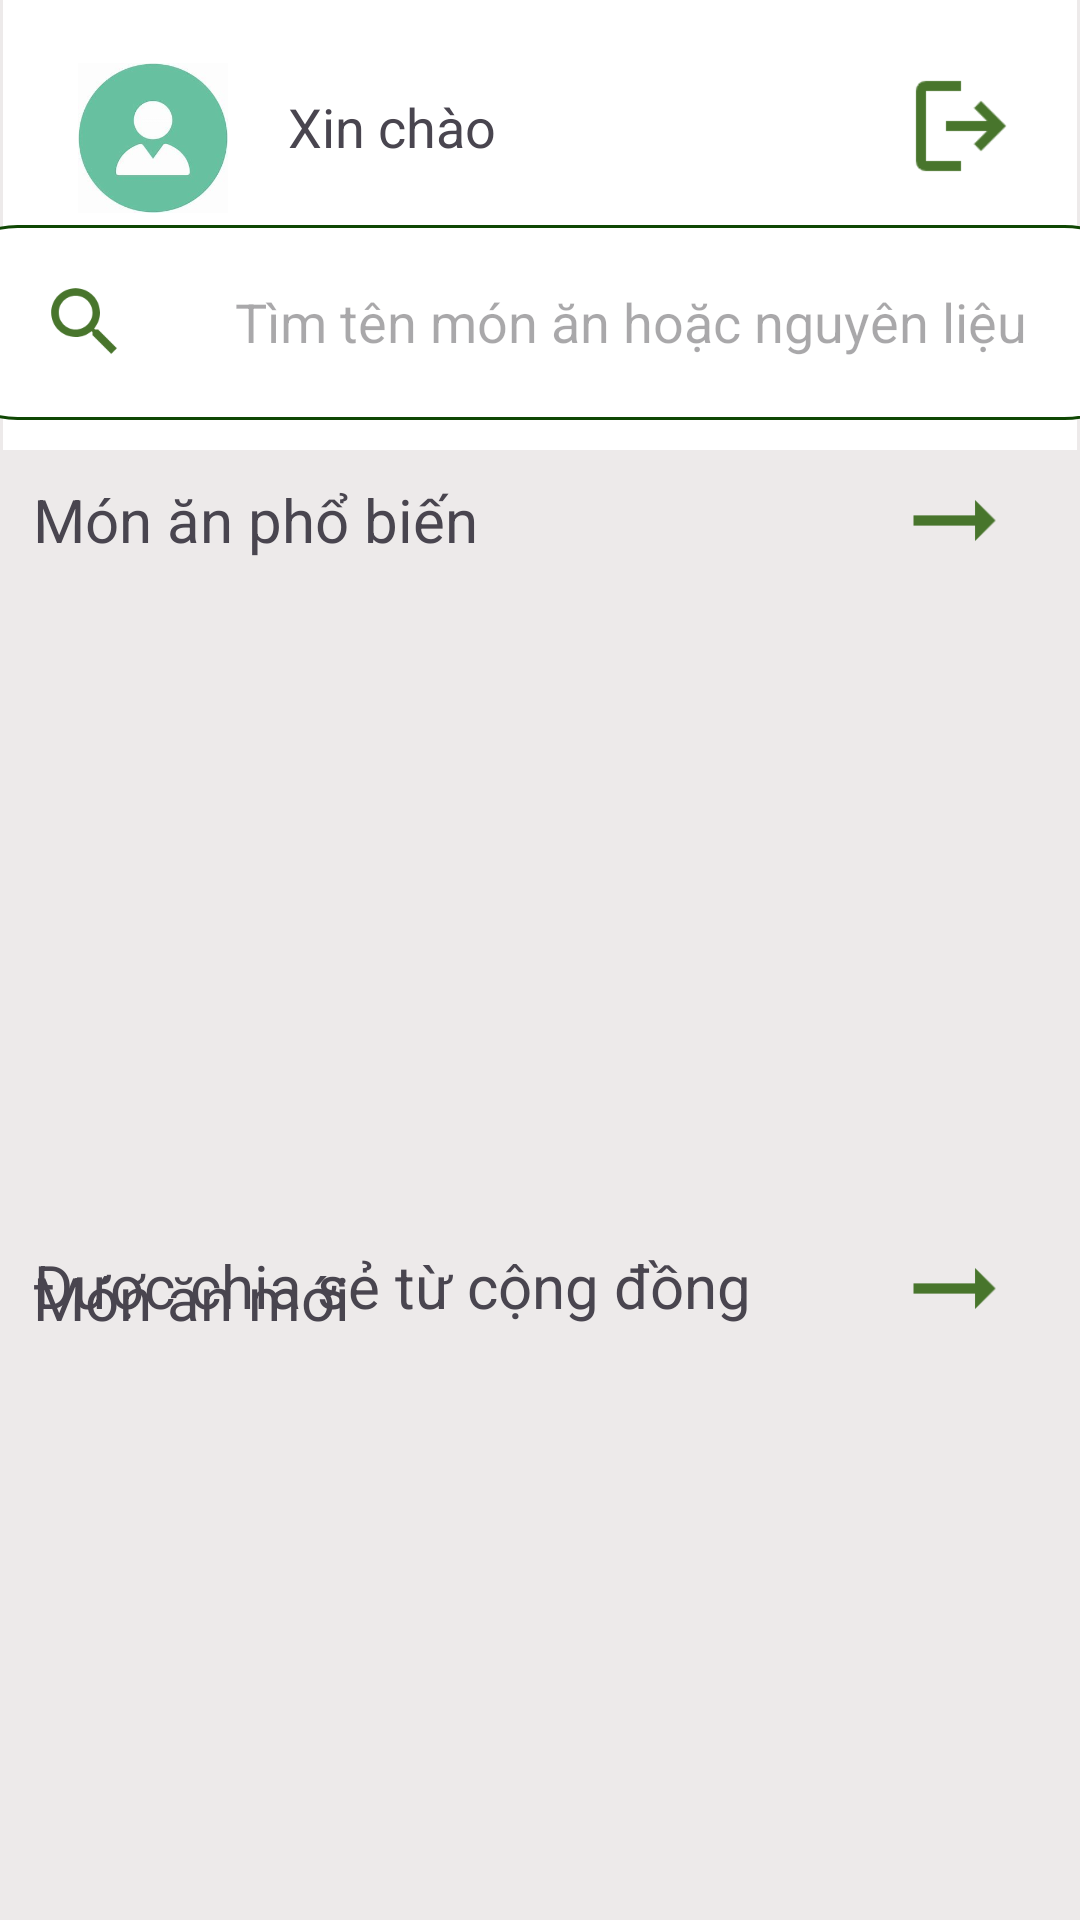

Named icons in this screenshot (1080 × 1920) and their bounding boxes, (x1, y1, x2, y2):
search: (51, 288, 117, 354)
